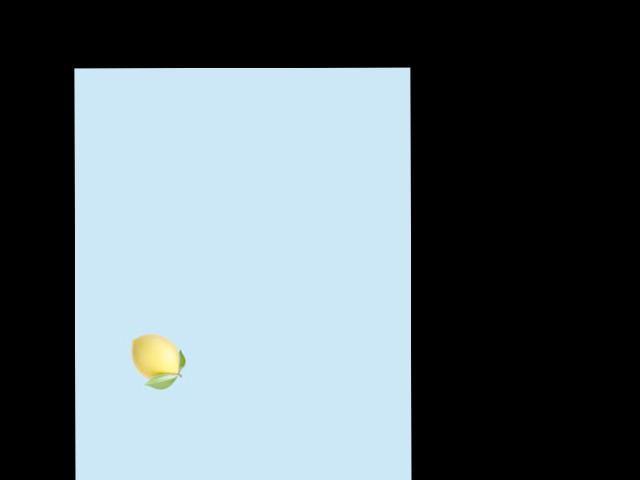lemon: (119, 321, 189, 391)
